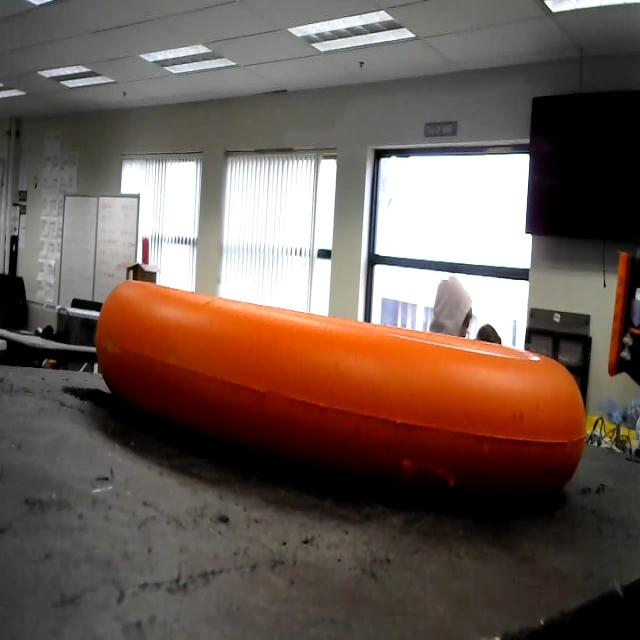note: (100, 257, 596, 507)
